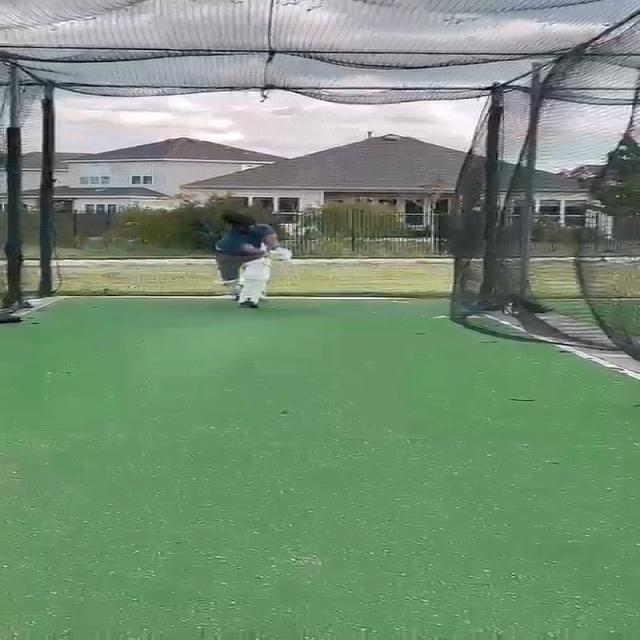batsman: (210, 211, 297, 310)
